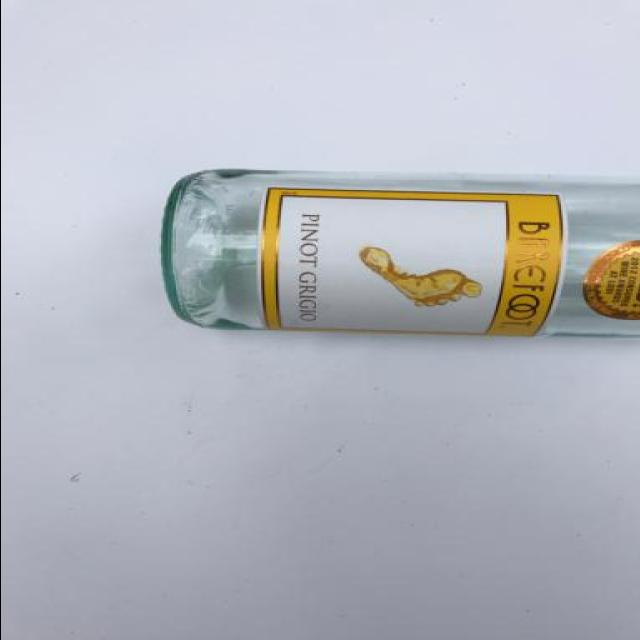glass: (165, 170, 640, 334)
